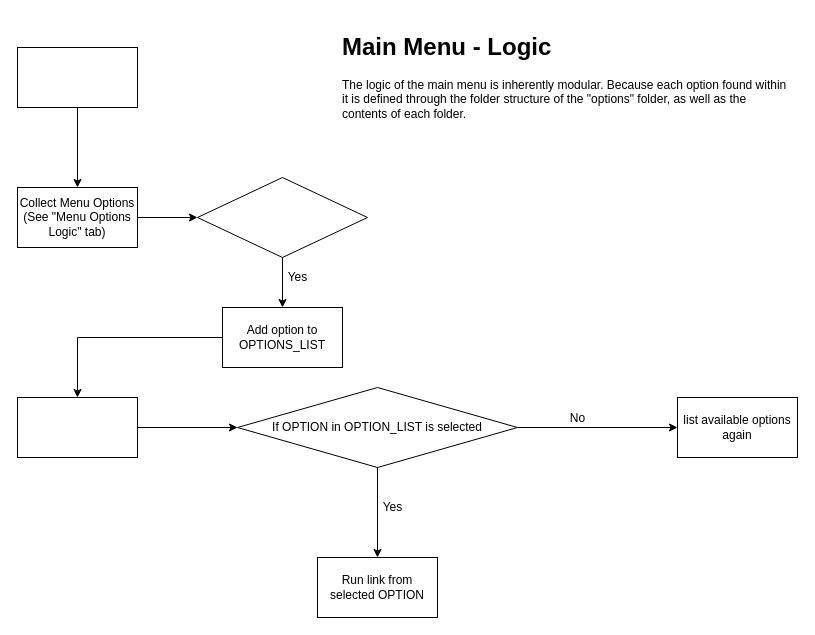
Some shapes in this 815 by 635 pixel diagram are drawn without their labels. The shapes that lost their labels are listed below. From the top down, each one's box as (x1, y1, x2, y2) in pixels, then its label:
(16, 46, 138, 108): Start Process
(196, 176, 368, 258): If dependency is satisfied
(16, 396, 138, 458): Display OPTIONS_LIST
